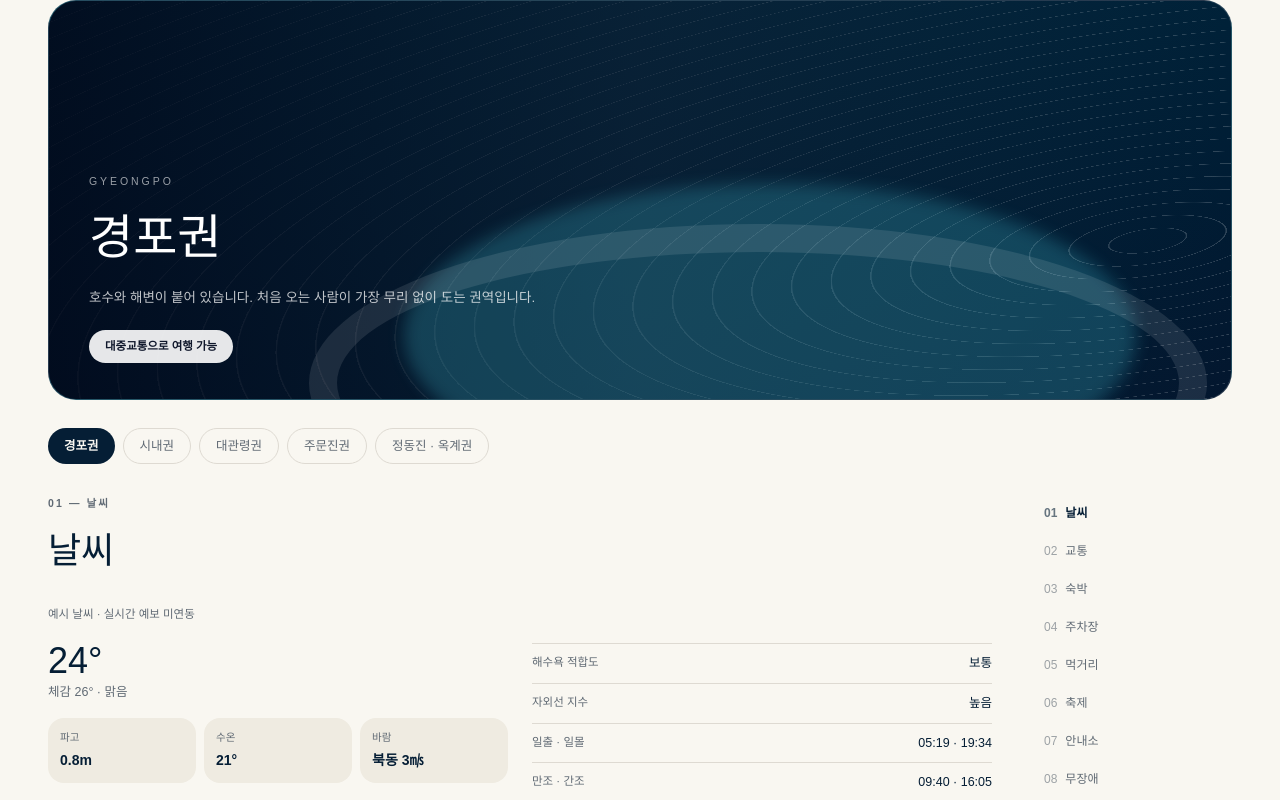
Test: ZoneGuide › 권역을 바꾸면 그 권역 콘텐츠로 바뀐다
Expected: the text "호수와 해변이 붙어 있습니다. 처음 오는 사람이 가장 무리 없이 도는 권역입니다." is shown, top-left (89, 290), bottom-right (535, 305)
What coordinates should you click on to do the following:
click the button "대관령권"
I would click on:
 (239, 446)
Its box is top-left (199, 428), bottom-right (279, 464).
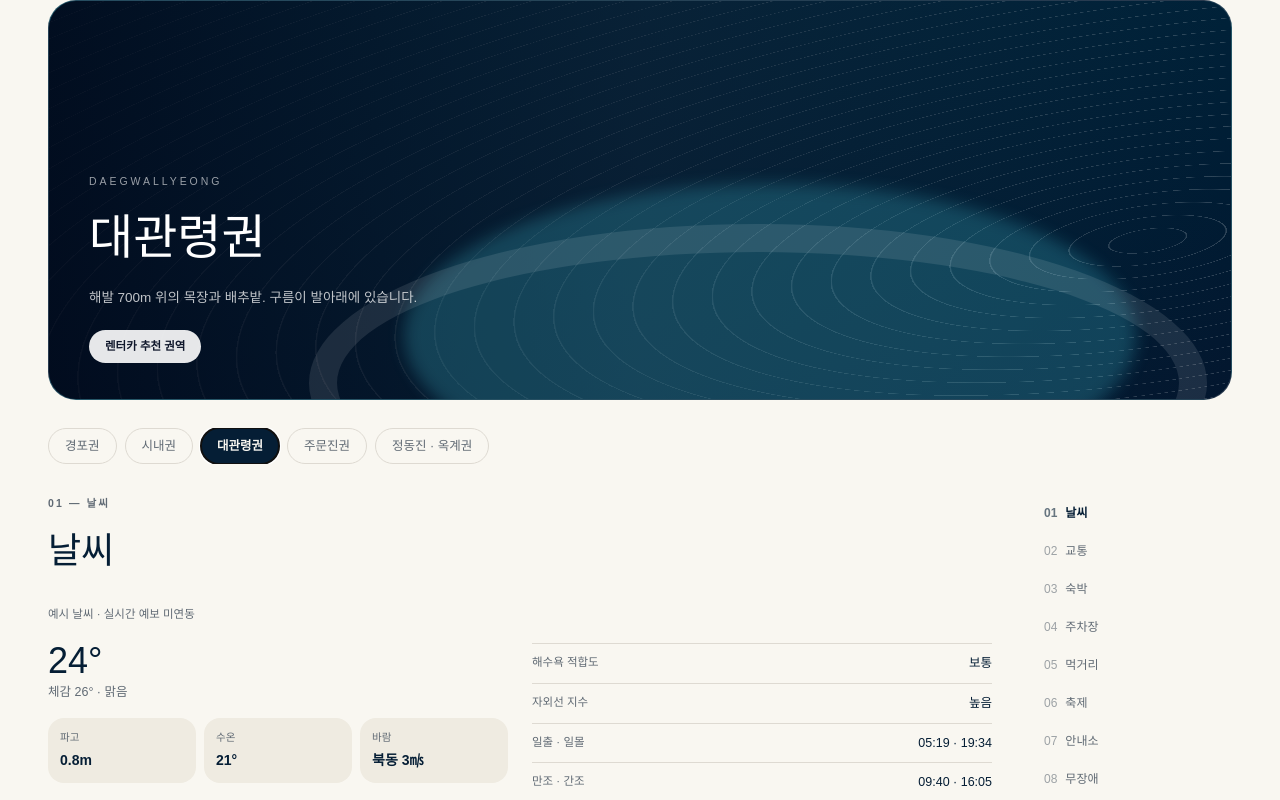
Now the text "해발 700m 위의 목장과 배추밭. 구름이 발아래에 있습니다." is shown, box top-left (89, 290), bottom-right (417, 305)
